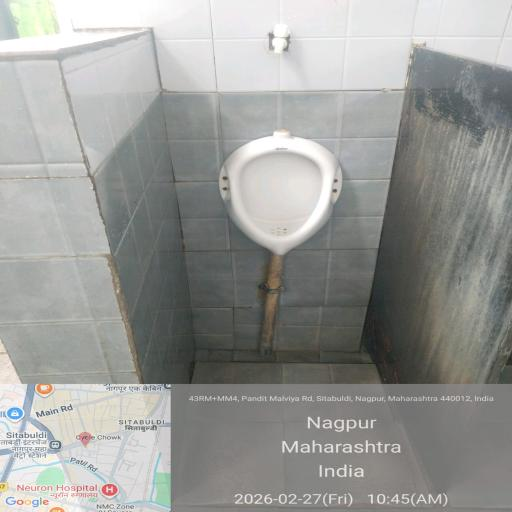clean_floor: (121, 8, 408, 136), (98, 212, 252, 370), (287, 248, 365, 349)
clean_urinal: (216, 140, 350, 244)
partial_dirty_floor: (369, 140, 512, 370)
